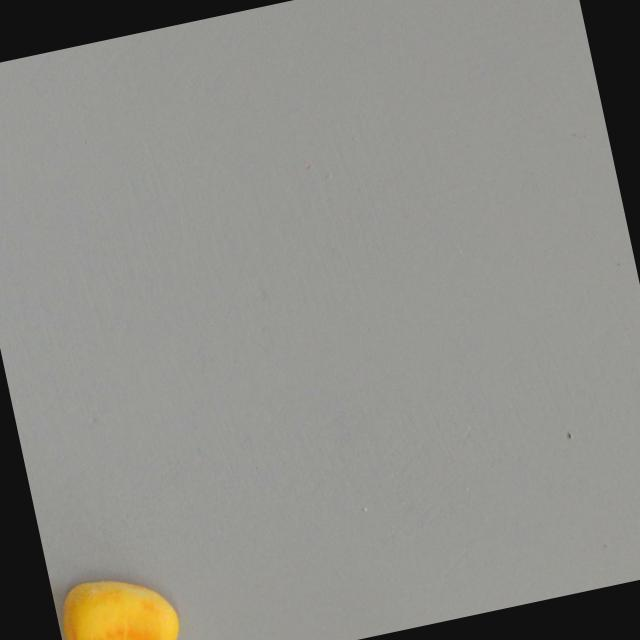dañado: (48, 555, 186, 640)
